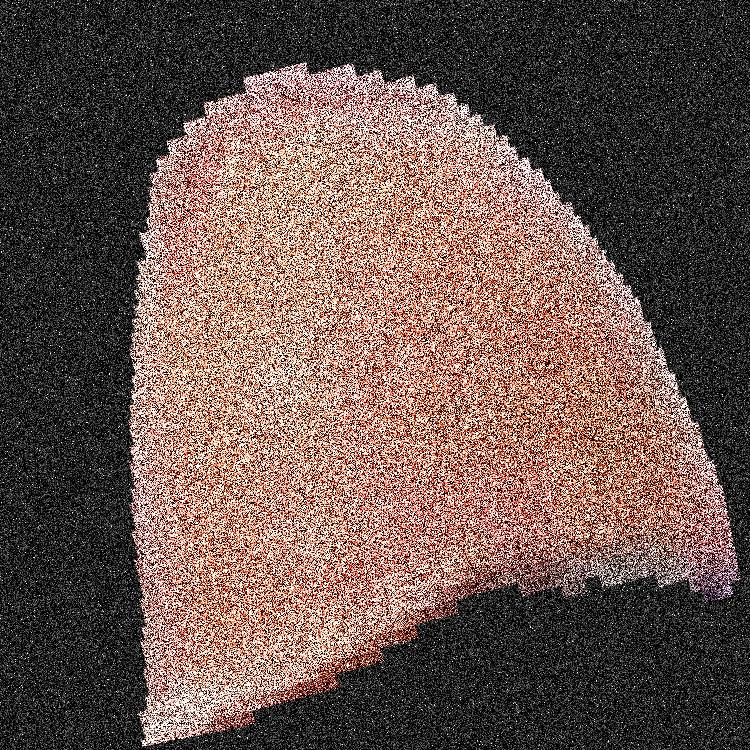Capacete: (187, 0, 621, 749)
